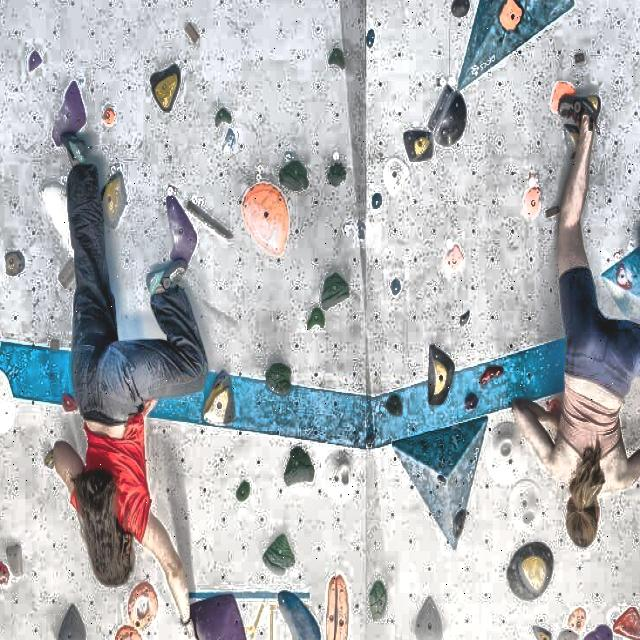Downclimb: (415, 597, 442, 640), (58, 605, 85, 640)
Hold: (242, 183, 289, 257), (507, 542, 554, 601), (485, 422, 529, 483), (429, 89, 466, 148), (277, 592, 320, 640), (53, 82, 85, 145), (509, 480, 545, 535), (167, 195, 197, 261), (187, 202, 232, 240), (428, 345, 455, 406), (203, 371, 234, 423), (129, 581, 159, 631), (102, 171, 127, 230), (150, 65, 180, 111), (263, 534, 295, 573), (284, 447, 315, 485), (328, 455, 353, 499), (323, 273, 350, 311), (279, 159, 309, 192), (384, 157, 409, 196), (0, 369, 15, 434), (335, 575, 349, 640), (613, 607, 640, 640), (552, 81, 578, 114), (404, 131, 432, 161), (499, 0, 523, 33), (266, 363, 291, 394), (370, 581, 387, 619), (563, 120, 579, 158), (327, 575, 336, 640), (446, 240, 463, 272), (6, 545, 23, 577), (58, 260, 75, 290), (567, 607, 587, 632), (525, 187, 541, 217), (6, 251, 24, 276), (480, 366, 503, 385), (328, 162, 346, 185), (114, 626, 143, 640), (453, 509, 466, 539), (307, 307, 325, 328), (585, 626, 612, 640), (223, 128, 237, 153), (616, 264, 630, 289), (386, 394, 402, 415), (62, 393, 78, 413), (329, 48, 344, 69), (452, 0, 469, 18), (186, 22, 199, 43), (215, 108, 232, 124), (236, 482, 249, 502), (534, 626, 552, 640), (30, 51, 42, 72), (466, 393, 479, 411), (0, 563, 10, 586), (559, 628, 577, 640), (103, 107, 115, 124), (546, 206, 561, 218), (366, 29, 375, 48), (372, 192, 382, 209), (366, 432, 376, 448), (391, 280, 401, 296), (460, 313, 471, 324), (438, 474, 447, 485), (50, 340, 59, 351), (575, 55, 585, 64)
Macro: (191, 594, 246, 640)
Unknown: (41, 183, 72, 252), (547, 397, 562, 414), (44, 451, 54, 468)
Volume: (394, 414, 489, 547), (460, 0, 575, 90), (602, 251, 640, 318)
